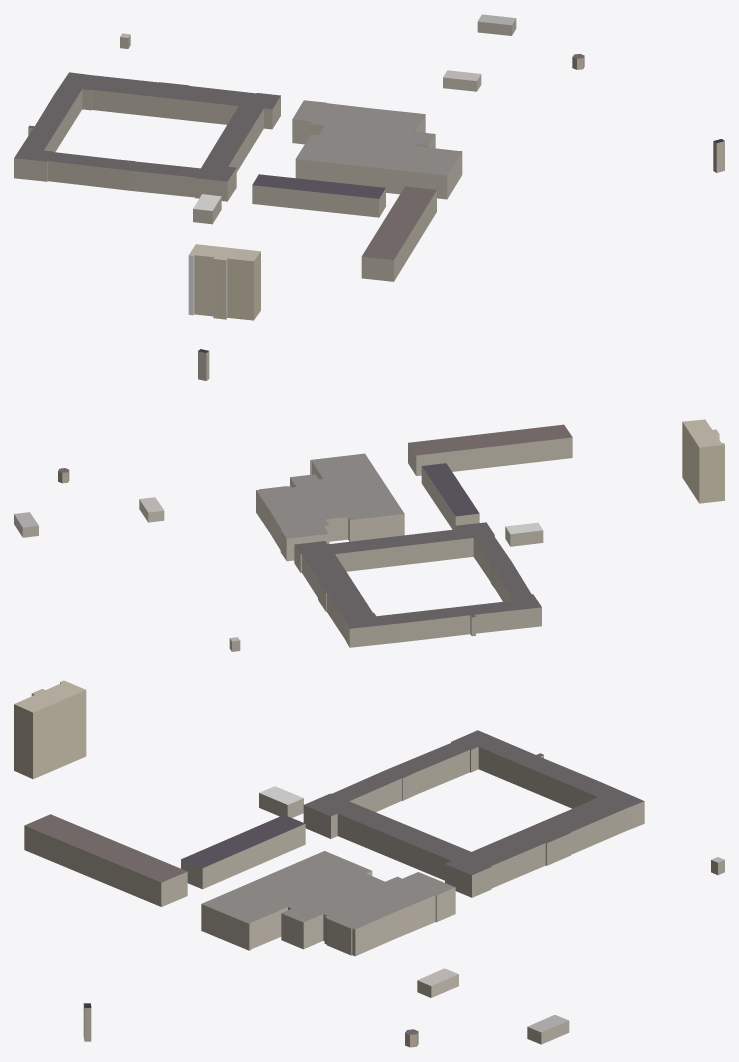
3 renders of one model, top to bottom at view 1: azimuth 30°, elevation 25°; view 2: azimuth 150°, elevation 25°; view 3: azimuth 270°, elevation 25°, orthographic. The views are drawn at different scales.
Parts seen in each view (by area): view 1: tuile; view 2: tuile; view 3: tuile.
Boxes of the visible parts, x1=… form: tuile: x1=14, y1=14, x2=724, y2=320; tuile: x1=14, y1=349, x2=724, y2=651; tuile: x1=14, y1=680, x2=724, y2=1047.
Size of the model in its own units: 250 by 28.92 by 249.
